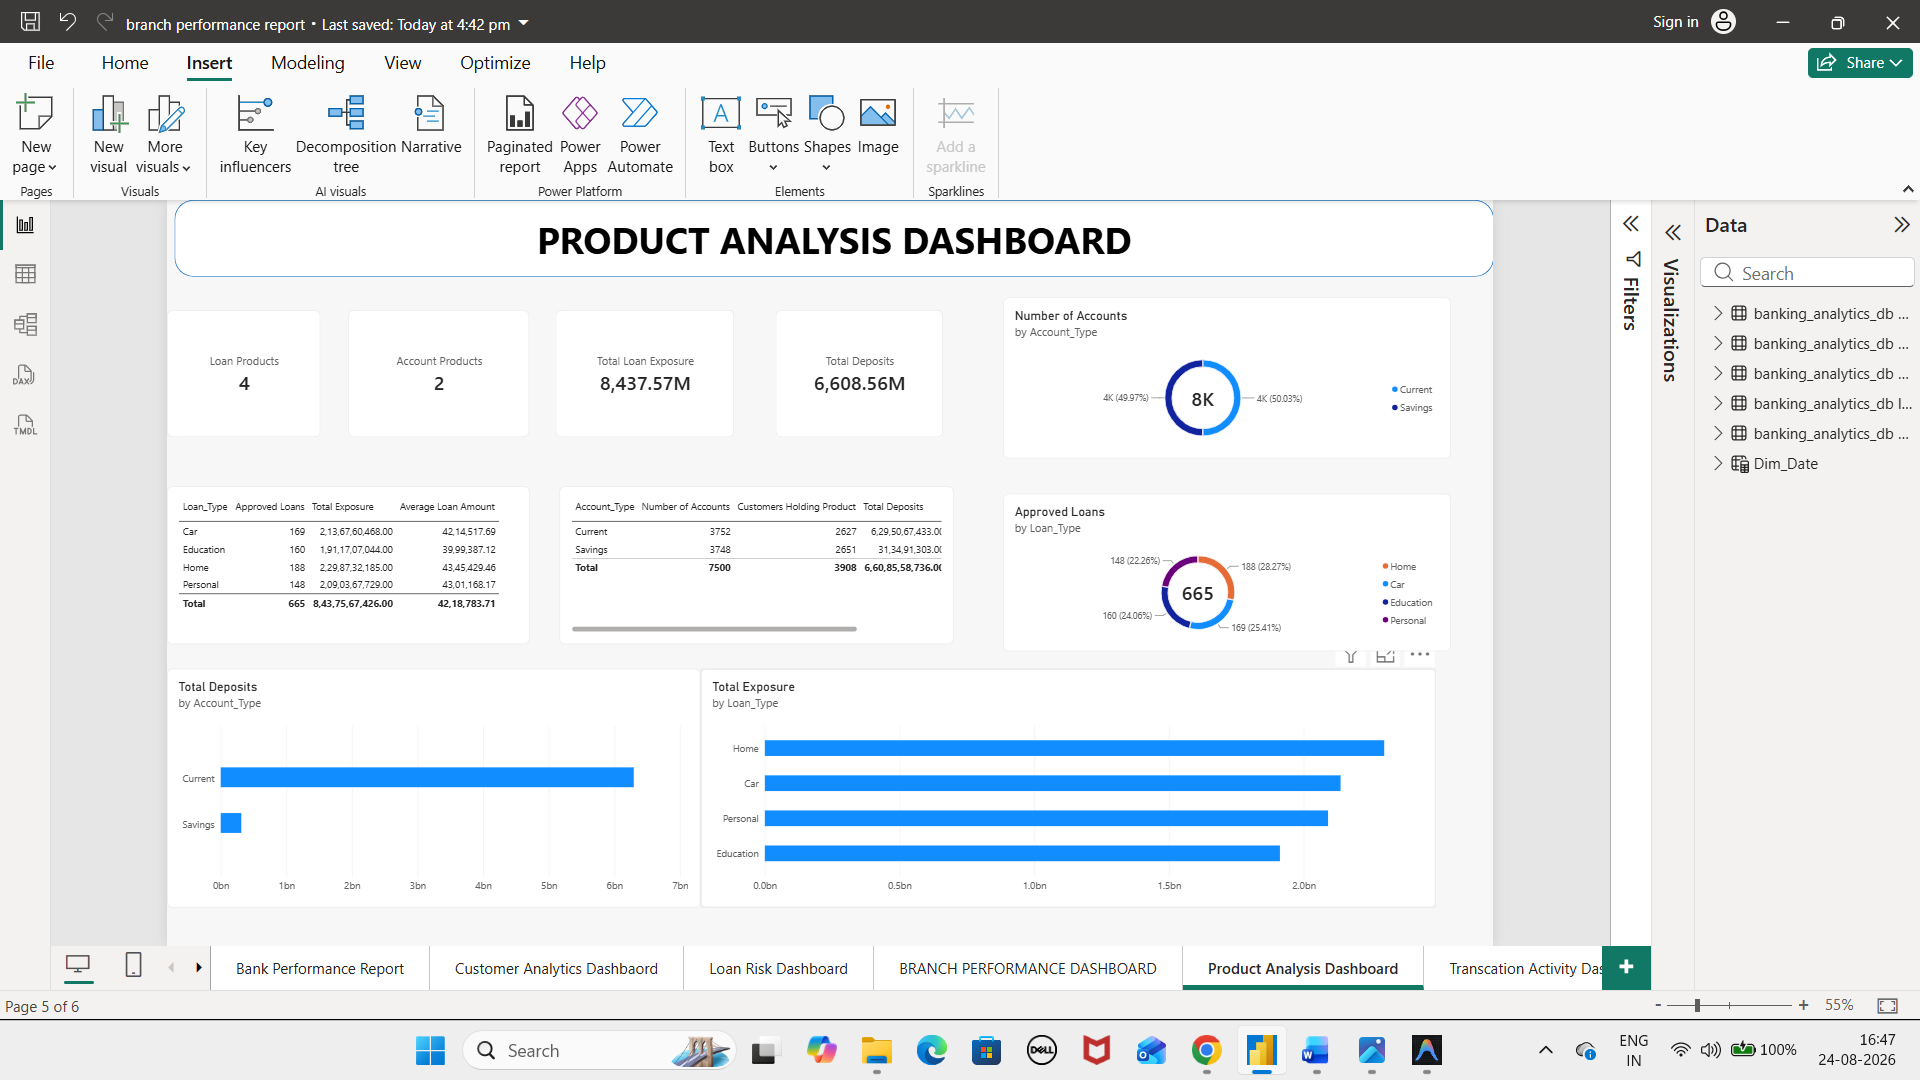

The dashboard page shown, as its layout file describes it:
{"tool":"powerbi","page":{"name":"Product Analysis Dashboard","canvas":[1920,1080],"ordinal":4},"visuals":[{"type":"shape","box":[10.3,0,1910.1,111.1],"z":0},{"type":"cardVisual","fields":{"Data":["banking_analytics_db loans.Loan Products"]},"box":[0,160,222,184],"z":1},{"type":"cardVisual","fields":{"Data":["banking_analytics_db accounts.Account Products"]},"box":[262,160,262,184],"z":2},{"type":"cardVisual","fields":{"Data":["Dim_Date.Total Deposits"]},"box":[882,160,242,184],"z":4},{"type":"cardVisual","fields":{"Data":["banking_analytics_db loans.Total Loan Exposure"]},"box":[562,160,258,184],"z":5},{"type":"tableEx","fields":{"Values":["banking_analytics_db loans.Loan_Type","Dim_Date.Approved Loans","Dim_Date.Total Exposure","Dim_Date.Average Loan Amount"]},"box":[0,413.7,524.9,228.5],"z":6},{"type":"tableEx","fields":{"Values":["banking_analytics_db accounts.Account_Type","banking_analytics_db accounts.Number of Accounts","banking_analytics_db customers.Customers Holding Product","Dim_Date.Total Deposits","Dim_Date.Average Loan Amount"]},"box":[568.2,414.4,570.2,228.5],"z":7},{"type":"clusteredBarChart","fields":{"Category":["banking_analytics_db accounts.Account_Type"],"Y":["Dim_Date.Total Deposits"]},"box":[0,679.2,771.9,345.8],"z":8},{"type":"clusteredBarChart","fields":{"Category":["banking_analytics_db loans.Loan_Type"],"Y":["Dim_Date.Total Exposure"]},"box":[771.9,679.2,1064.2,345.8],"z":9},{"type":"donutChart","fields":{"Category":["banking_analytics_db accounts.Account_Type"],"Y":["banking_analytics_db accounts.Number of Accounts"]},"box":[1210.3,142,648.4,232.6],"z":10},{"type":"donutChart","fields":{"Category":["banking_analytics_db loans.Loan_Type"],"Y":["Dim_Date.Approved Loans"]},"box":[1210,426,648,228],"z":11}]}

Visuals, with their boxes on the page's 1920x1080 design canvas (x1, y1, x2, y2). These are canvas units, not pixel positions in the 1920x1080 screenshot, which may show the page scaled, cropped or inside an application window:
shape: select_region(10, 0, 1920, 111)
cardVisual - banking_analytics_db loans.Loan Products: select_region(0, 160, 222, 344)
cardVisual - banking_analytics_db accounts.Account Products: select_region(262, 160, 524, 344)
cardVisual - Dim_Date.Total Deposits: select_region(882, 160, 1124, 344)
cardVisual - banking_analytics_db loans.Total Loan Exposure: select_region(562, 160, 820, 344)
tableEx - banking_analytics_db loans.Loan_Type x Dim_Date.Approved Loans: select_region(0, 414, 525, 642)
tableEx - banking_analytics_db accounts.Account_Type x banking_analytics_db accounts.Number of Accounts: select_region(568, 414, 1138, 643)
clusteredBarChart - banking_analytics_db accounts.Account_Type x Dim_Date.Total Deposits: select_region(0, 679, 772, 1025)
clusteredBarChart - banking_analytics_db loans.Loan_Type x Dim_Date.Total Exposure: select_region(772, 679, 1836, 1025)
donutChart - banking_analytics_db accounts.Account_Type x banking_analytics_db accounts.Number of Accounts: select_region(1210, 142, 1859, 375)
donutChart - banking_analytics_db loans.Loan_Type x Dim_Date.Approved Loans: select_region(1210, 426, 1858, 654)
